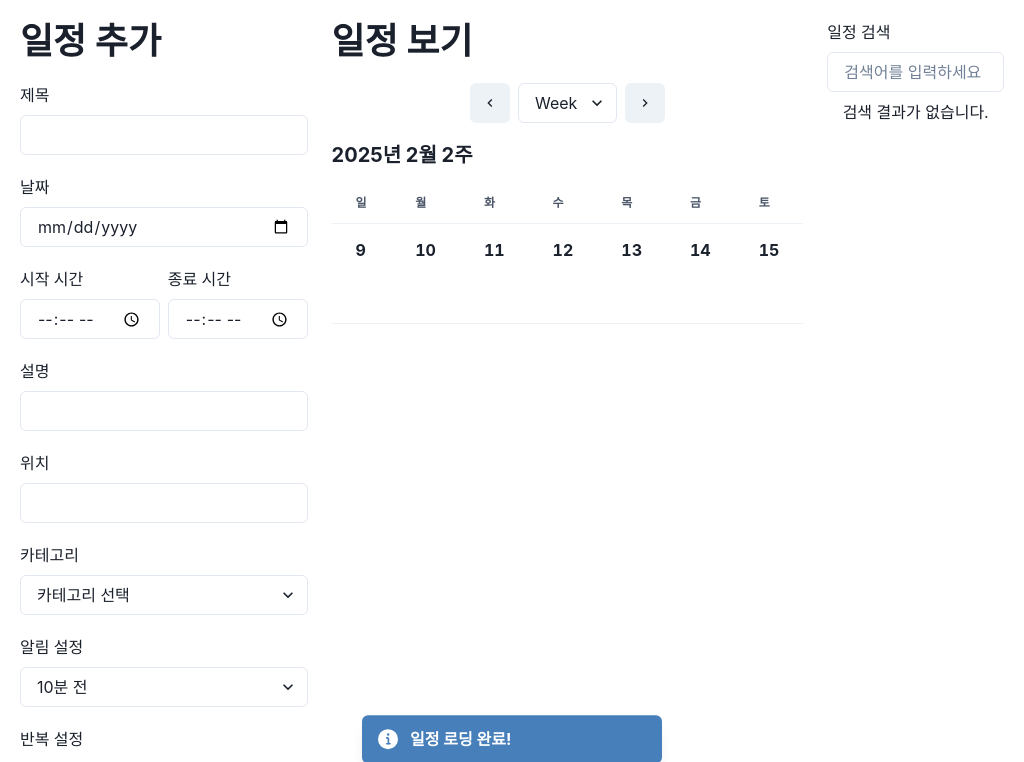
Test: 일정 뷰 › 월별 뷰에 일정이 없으면, 일정이 표시되지 않아야 한다.
Check: the heading "2025년 2월 2주" is shown, box [332,143,473,167]
Select "Month" in the dropdown named "view" at (568, 103), box [518,83,617,123]
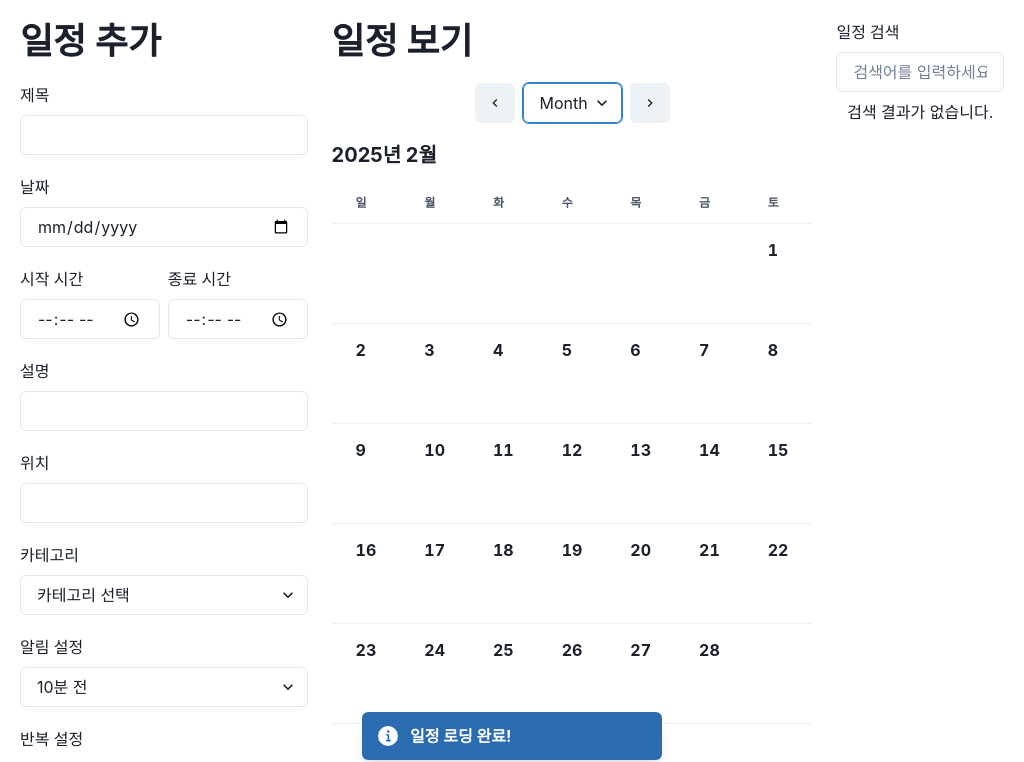
Check: the element with test id "month-view" does not show "테스트 이벤트", box [332,143,812,724]
Check: the element with test id "month-view" is shown, box [332,143,812,724]
